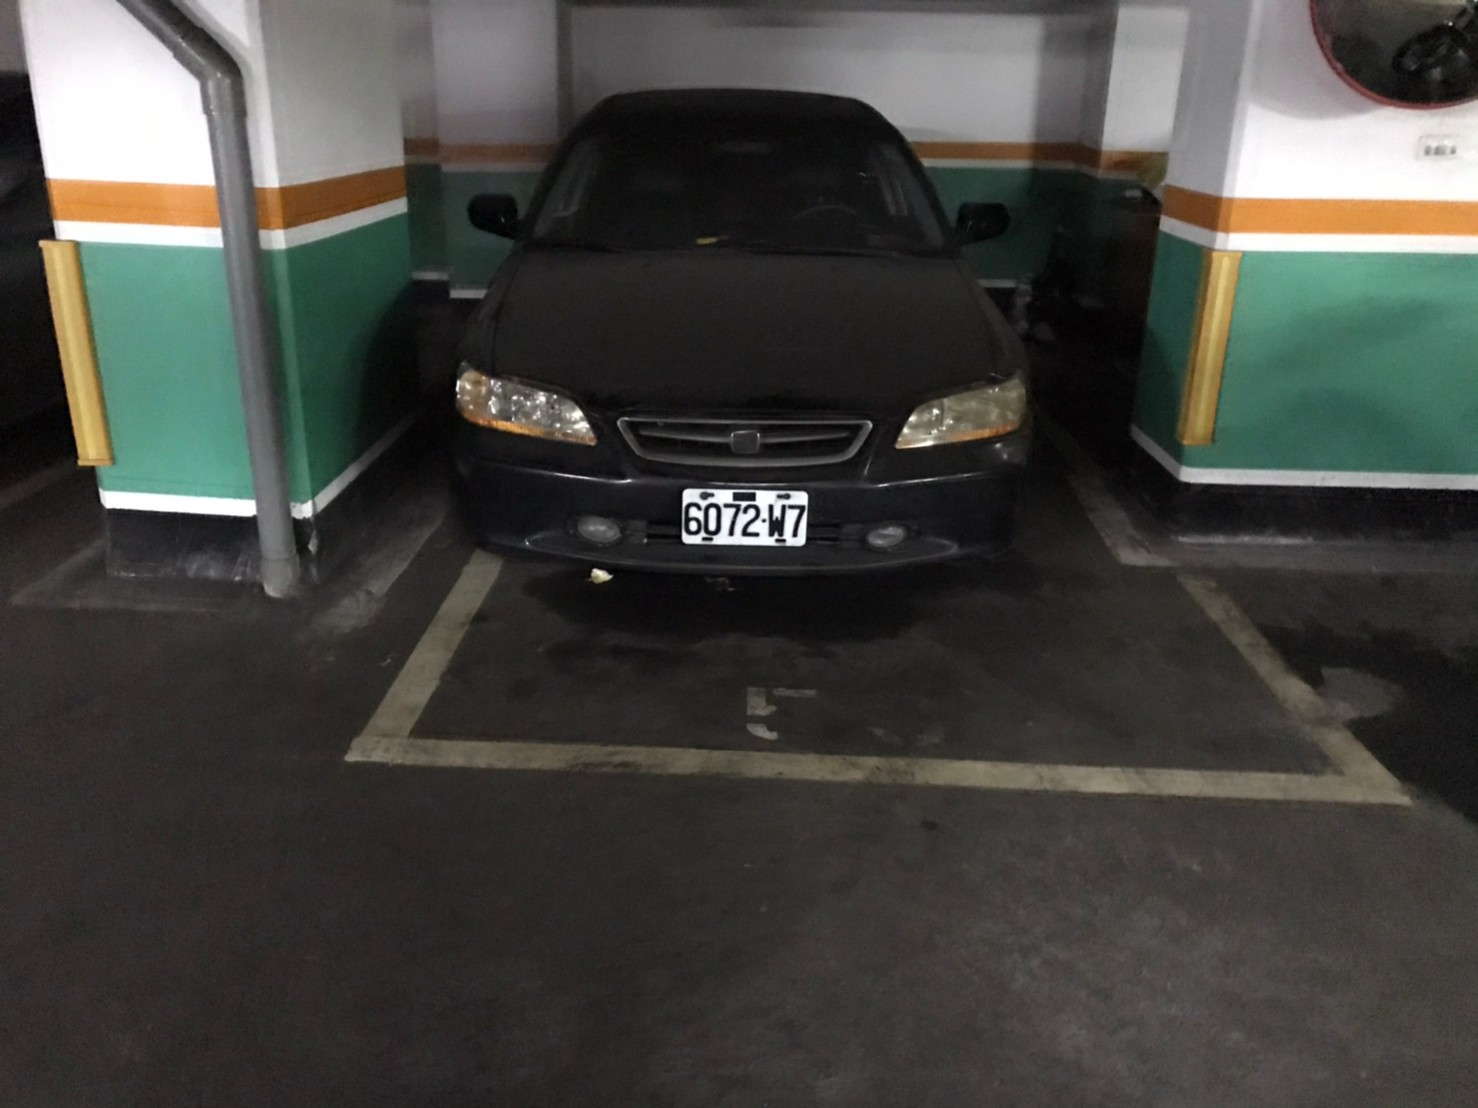LP: (680, 486, 809, 548)
